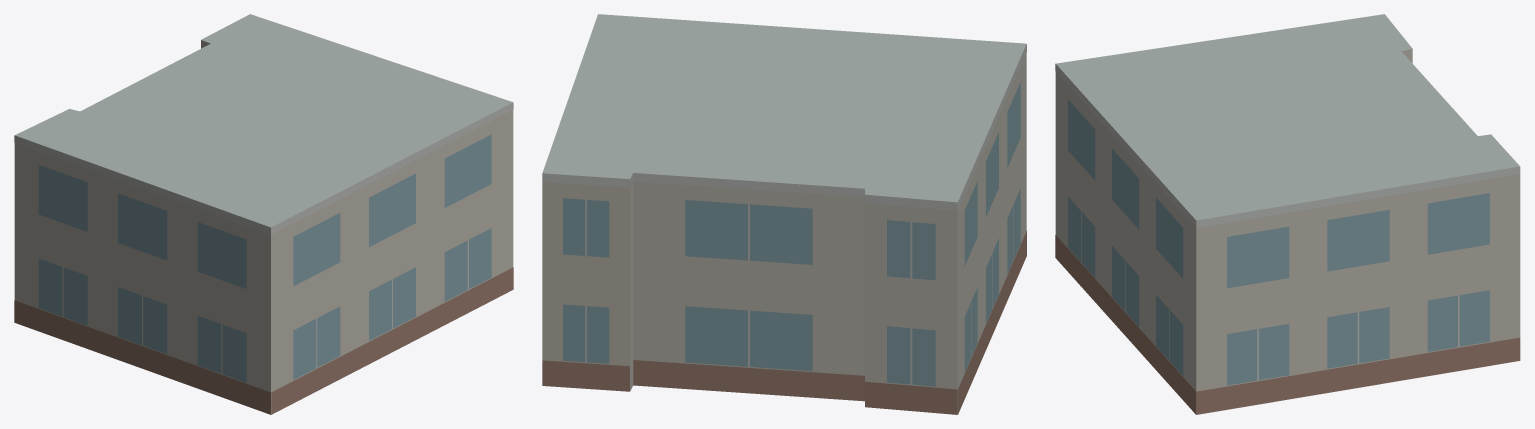
The model's file is survey-upis-32843878.glb.
The picture shows the model from 3 angles, left to right: view 1: azimuth 30°, elevation 25°; view 2: azimuth 150°, elevation 25°; view 3: azimuth 270°, elevation 25°; orthographic projection. The views are drawn at different scales.
Visible parts, largest first — view 1: survey-upis-32843878.tmp; view 2: survey-upis-32843878.tmp; view 3: survey-upis-32843878.tmp.
Boxes of the visible parts, box(x1,y1,x2,y2) form: survey-upis-32843878.tmp: box(14, 14, 513, 414); survey-upis-32843878.tmp: box(542, 14, 1026, 414); survey-upis-32843878.tmp: box(1055, 14, 1520, 414).
Bounding box in the file's own units: 13.91 × 6.1 × 13.23.
